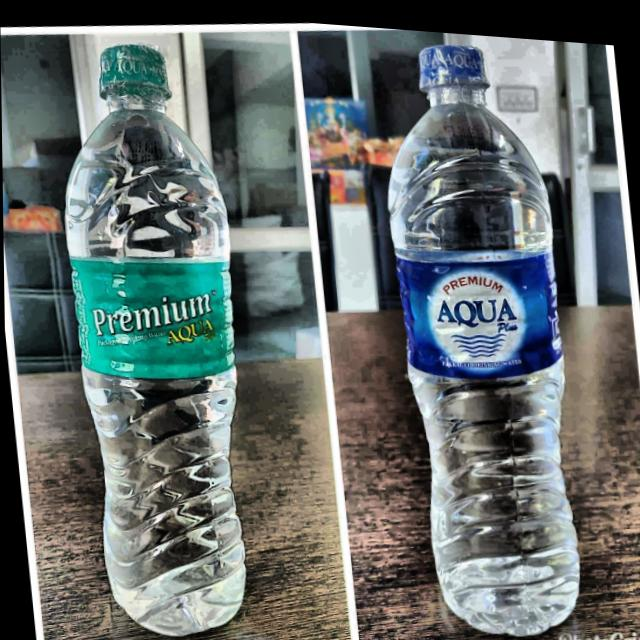Bottles: (37, 17, 298, 640), (355, 21, 613, 640)
